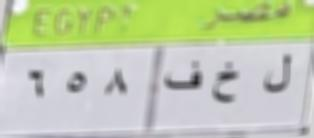5: (63, 62, 91, 101)
6: (23, 64, 53, 101)
8: (106, 68, 130, 100)
faa: (162, 57, 203, 95)
khaa: (207, 62, 243, 109)
laam: (262, 51, 293, 97)
